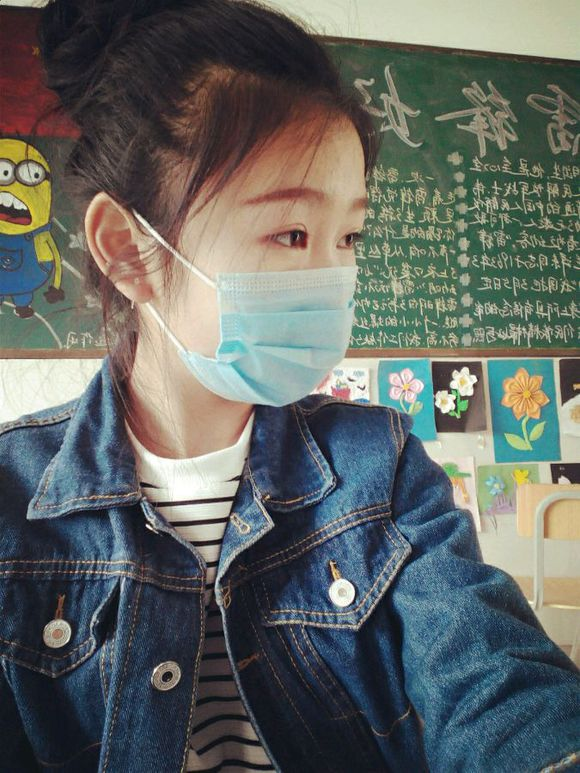face_mask: (194, 119, 368, 414)
